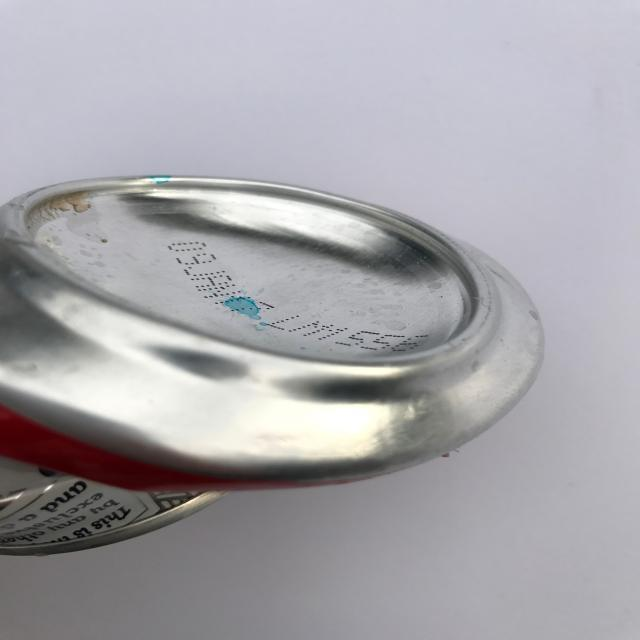metal: (1, 165, 552, 560)
